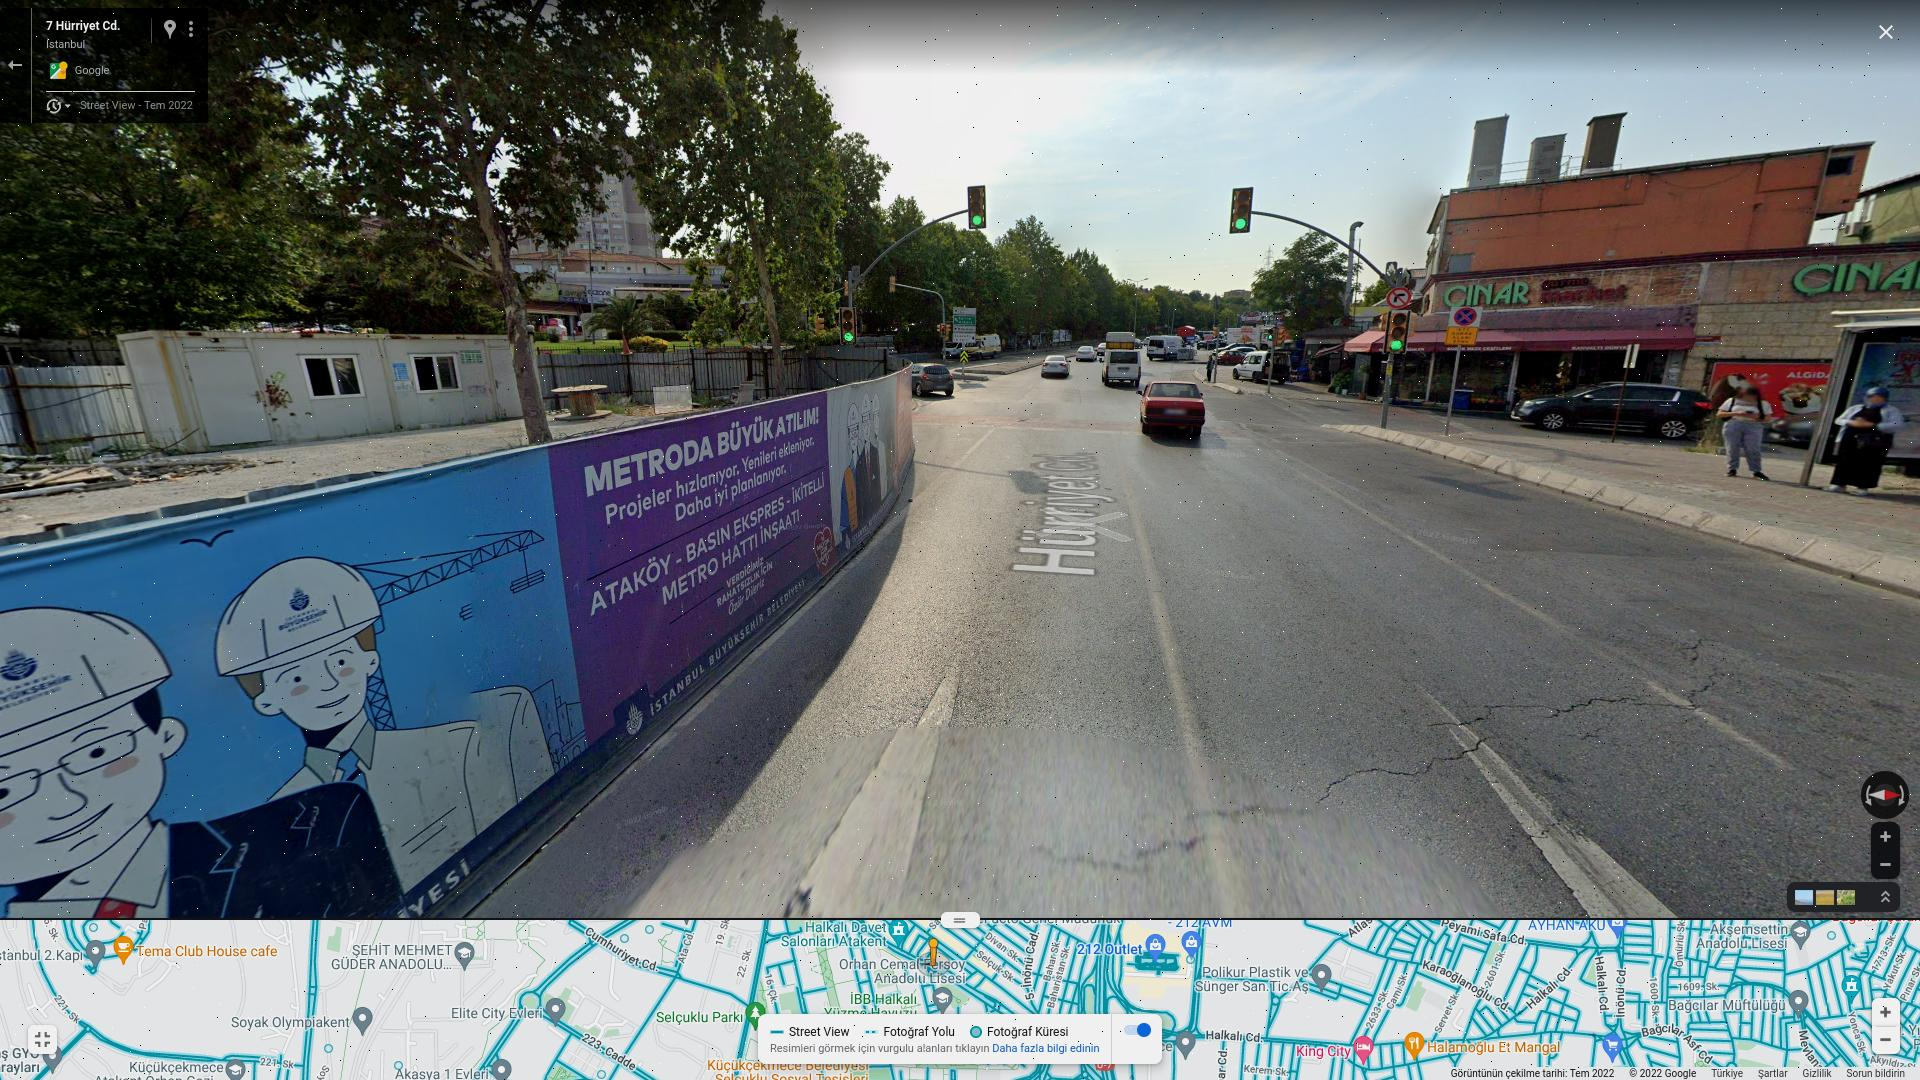greenlight: (967, 185, 988, 229), (1233, 187, 1251, 233), (1390, 311, 1408, 355), (840, 306, 856, 344)
rightturnsareforbidden: (1390, 286, 1411, 309)
